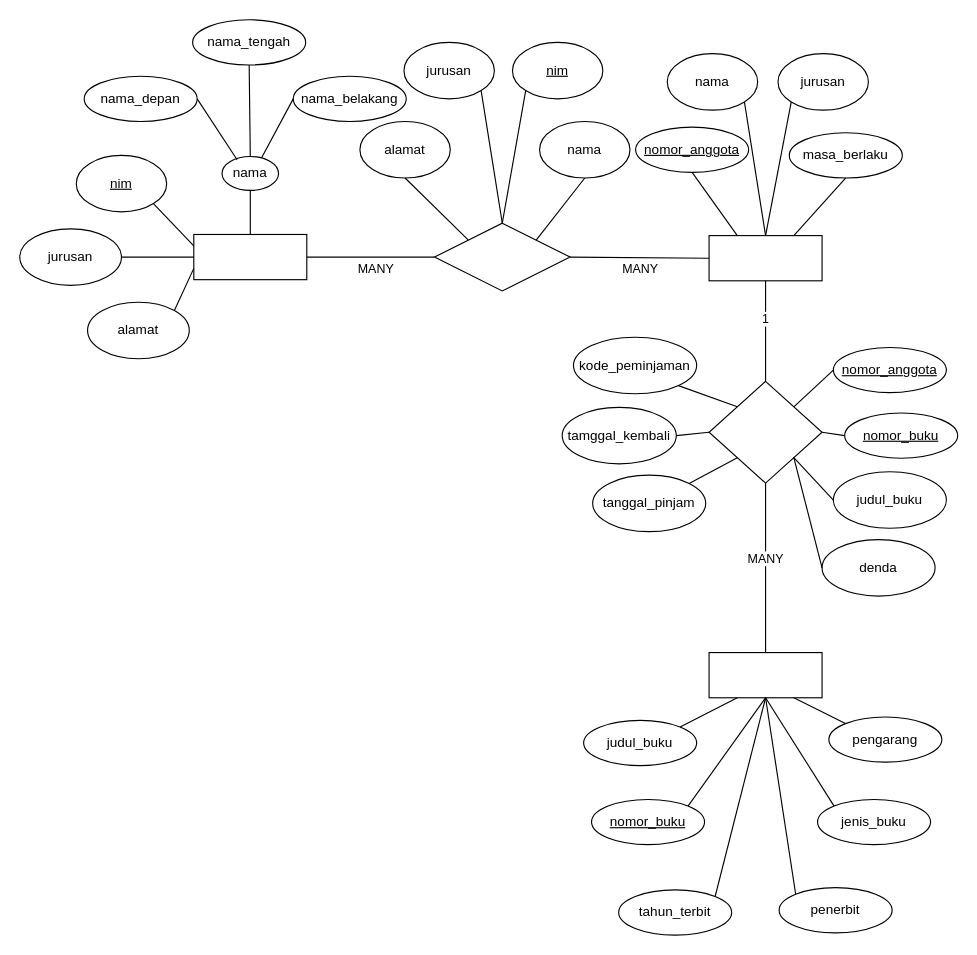
This 977x955 diagram has some shape labels left out. The box of each missing label's shape, as (x1, y1, x2, y2) in pixels:
anggota Perpustakaan: (708, 234, 822, 281)
Buku: (708, 651, 822, 698)
Mahasiswa: (193, 233, 307, 280)
meminjam: (708, 380, 822, 483)
mendaftar: (433, 222, 570, 291)
